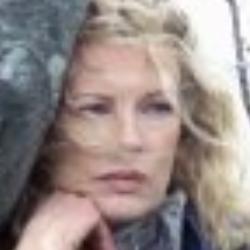face: (21, 3, 234, 230)
